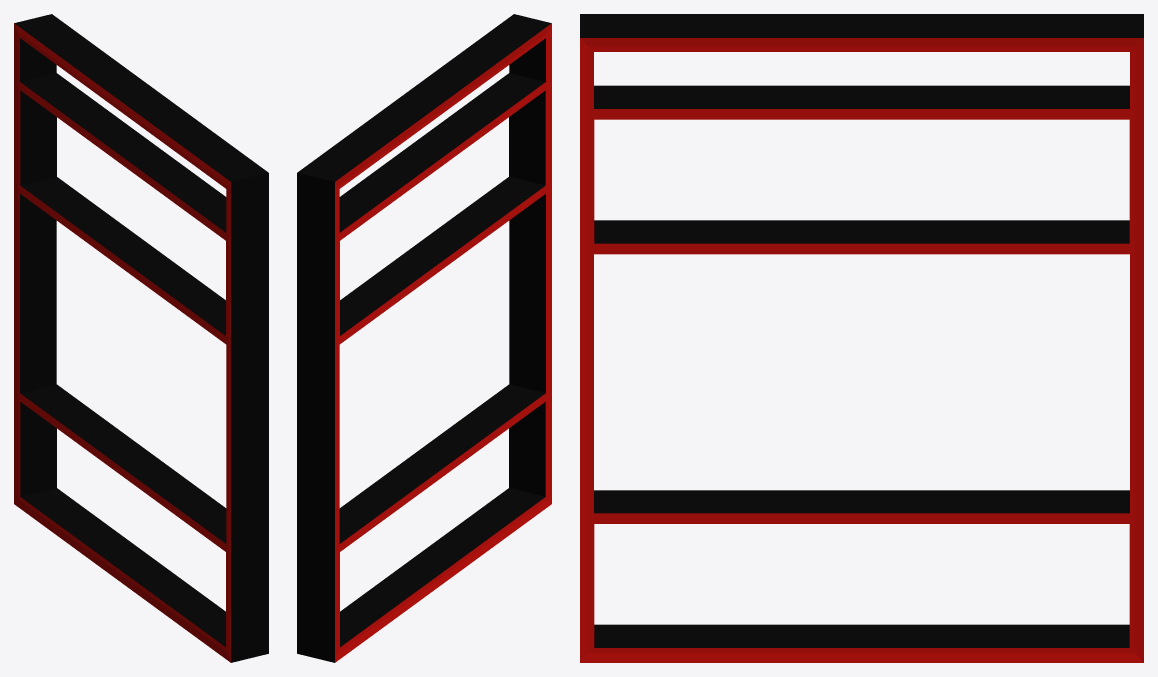
Rendered from task_2_gate.dae.
The picture shows the model from 3 angles, left to right: view 1: azimuth 30°, elevation 25°; view 2: azimuth 150°, elevation 25°; view 3: azimuth 270°, elevation 25°; orthographic projection. The views are drawn at different scales.
Visible parts, largest first — view 1: Cube; view 2: Cube; view 3: Cube.
Boxes of the visible parts, box(x1,y1,x2,y2) form: Cube: box(14, 14, 268, 662); Cube: box(297, 14, 551, 662); Cube: box(580, 14, 1143, 662).
Bounding box in the file's own units: 0.2012 × 2 × 2.45.
